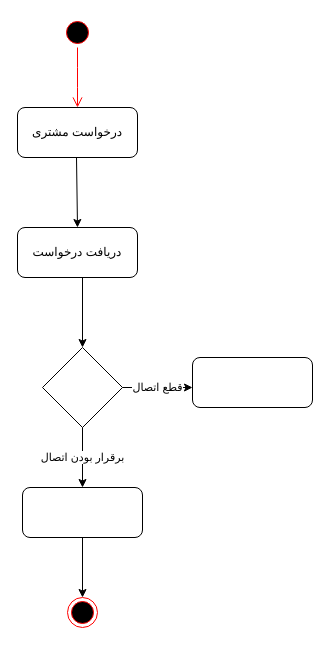
Some shapes in this 330 by 645 pixel diagram are drawn without their labels. Each missing label, with the centre of its shape:
بررسی مشکل و درخواست مجدد عملیات از مشتری: the point at 252,382
نمایش منوی رستوران به مشتری: the point at 82,512
